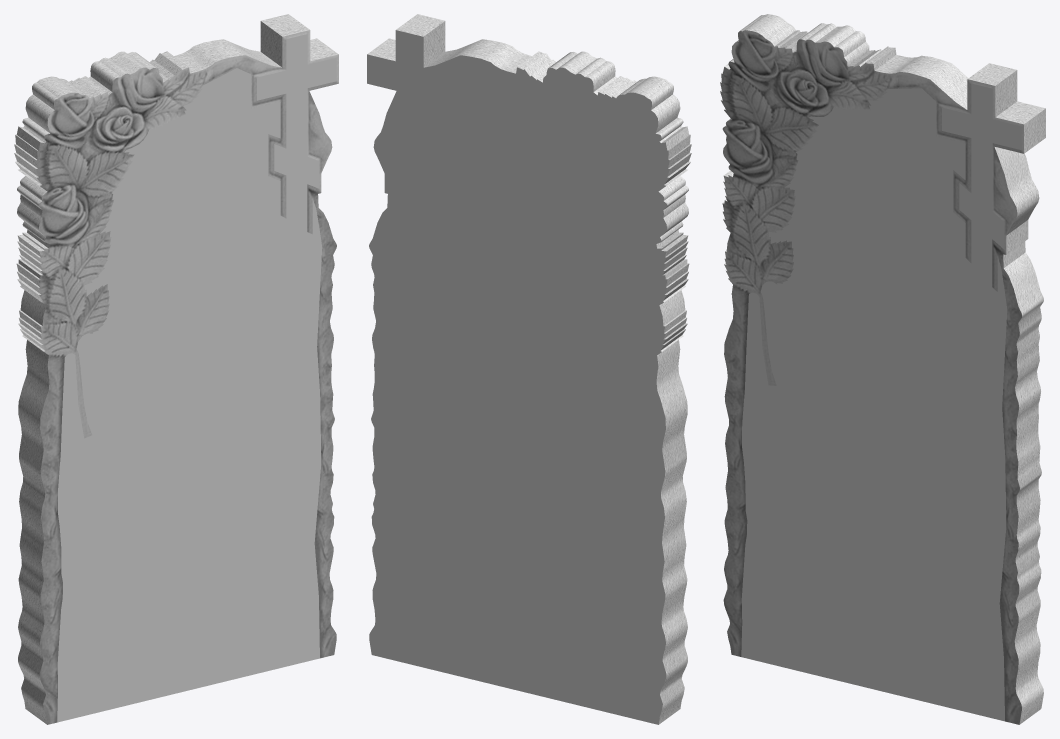
The model's file is cn85e51ca0fd_tkf.glb.
The picture shows the model from 3 angles, left to right: view 1: azimuth 30°, elevation 25°; view 2: azimuth 150°, elevation 25°; view 3: azimuth 330°, elevation 25°; orthographic projection.
Visible parts, largest first — view 1: Pam-d01-164, Pam-d01-164_2_notexture; view 2: Pam-d01-164, Pam-d01-164_2_notexture; view 3: Pam-d01-164, Pam-d01-164_2_notexture.
Part boxes in pixels (x1=…): Pam-d01-164: x1=57, y1=34, x2=336, y2=722; Pam-d01-164_2_notexture: x1=14, y1=14, x2=338, y2=724; Pam-d01-164: x1=367, y1=30, x2=669, y2=724; Pam-d01-164_2_notexture: x1=367, y1=14, x2=691, y2=724; Pam-d01-164: x1=741, y1=83, x2=1021, y2=721; Pam-d01-164_2_notexture: x1=720, y1=14, x2=1045, y2=724.
Bounding box in the file's own units: 0.4 × 0.8 × 0.05.
1 material, 1 textured.
